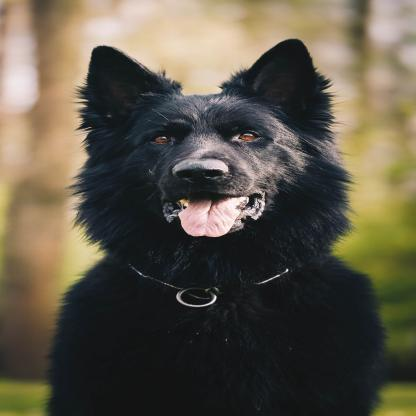german shepherd: (46, 41, 381, 416)
